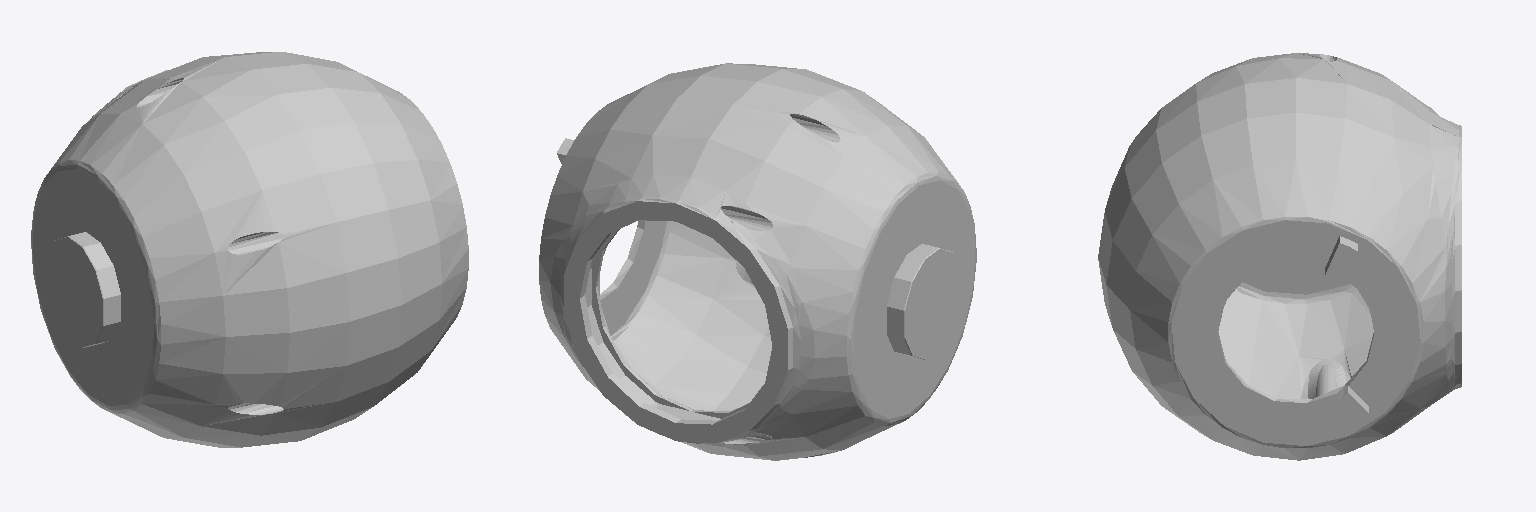
The model's file is arml_t23.obj.
The picture shows the model from 3 angles: view 1: azimuth 30°, elevation 25°; view 2: azimuth 150°, elevation 25°; view 3: azimuth 270°, elevation 25°; orthographic projection.
Size of the model in its own units: 0.19 by 0.1888 by 0.1734.